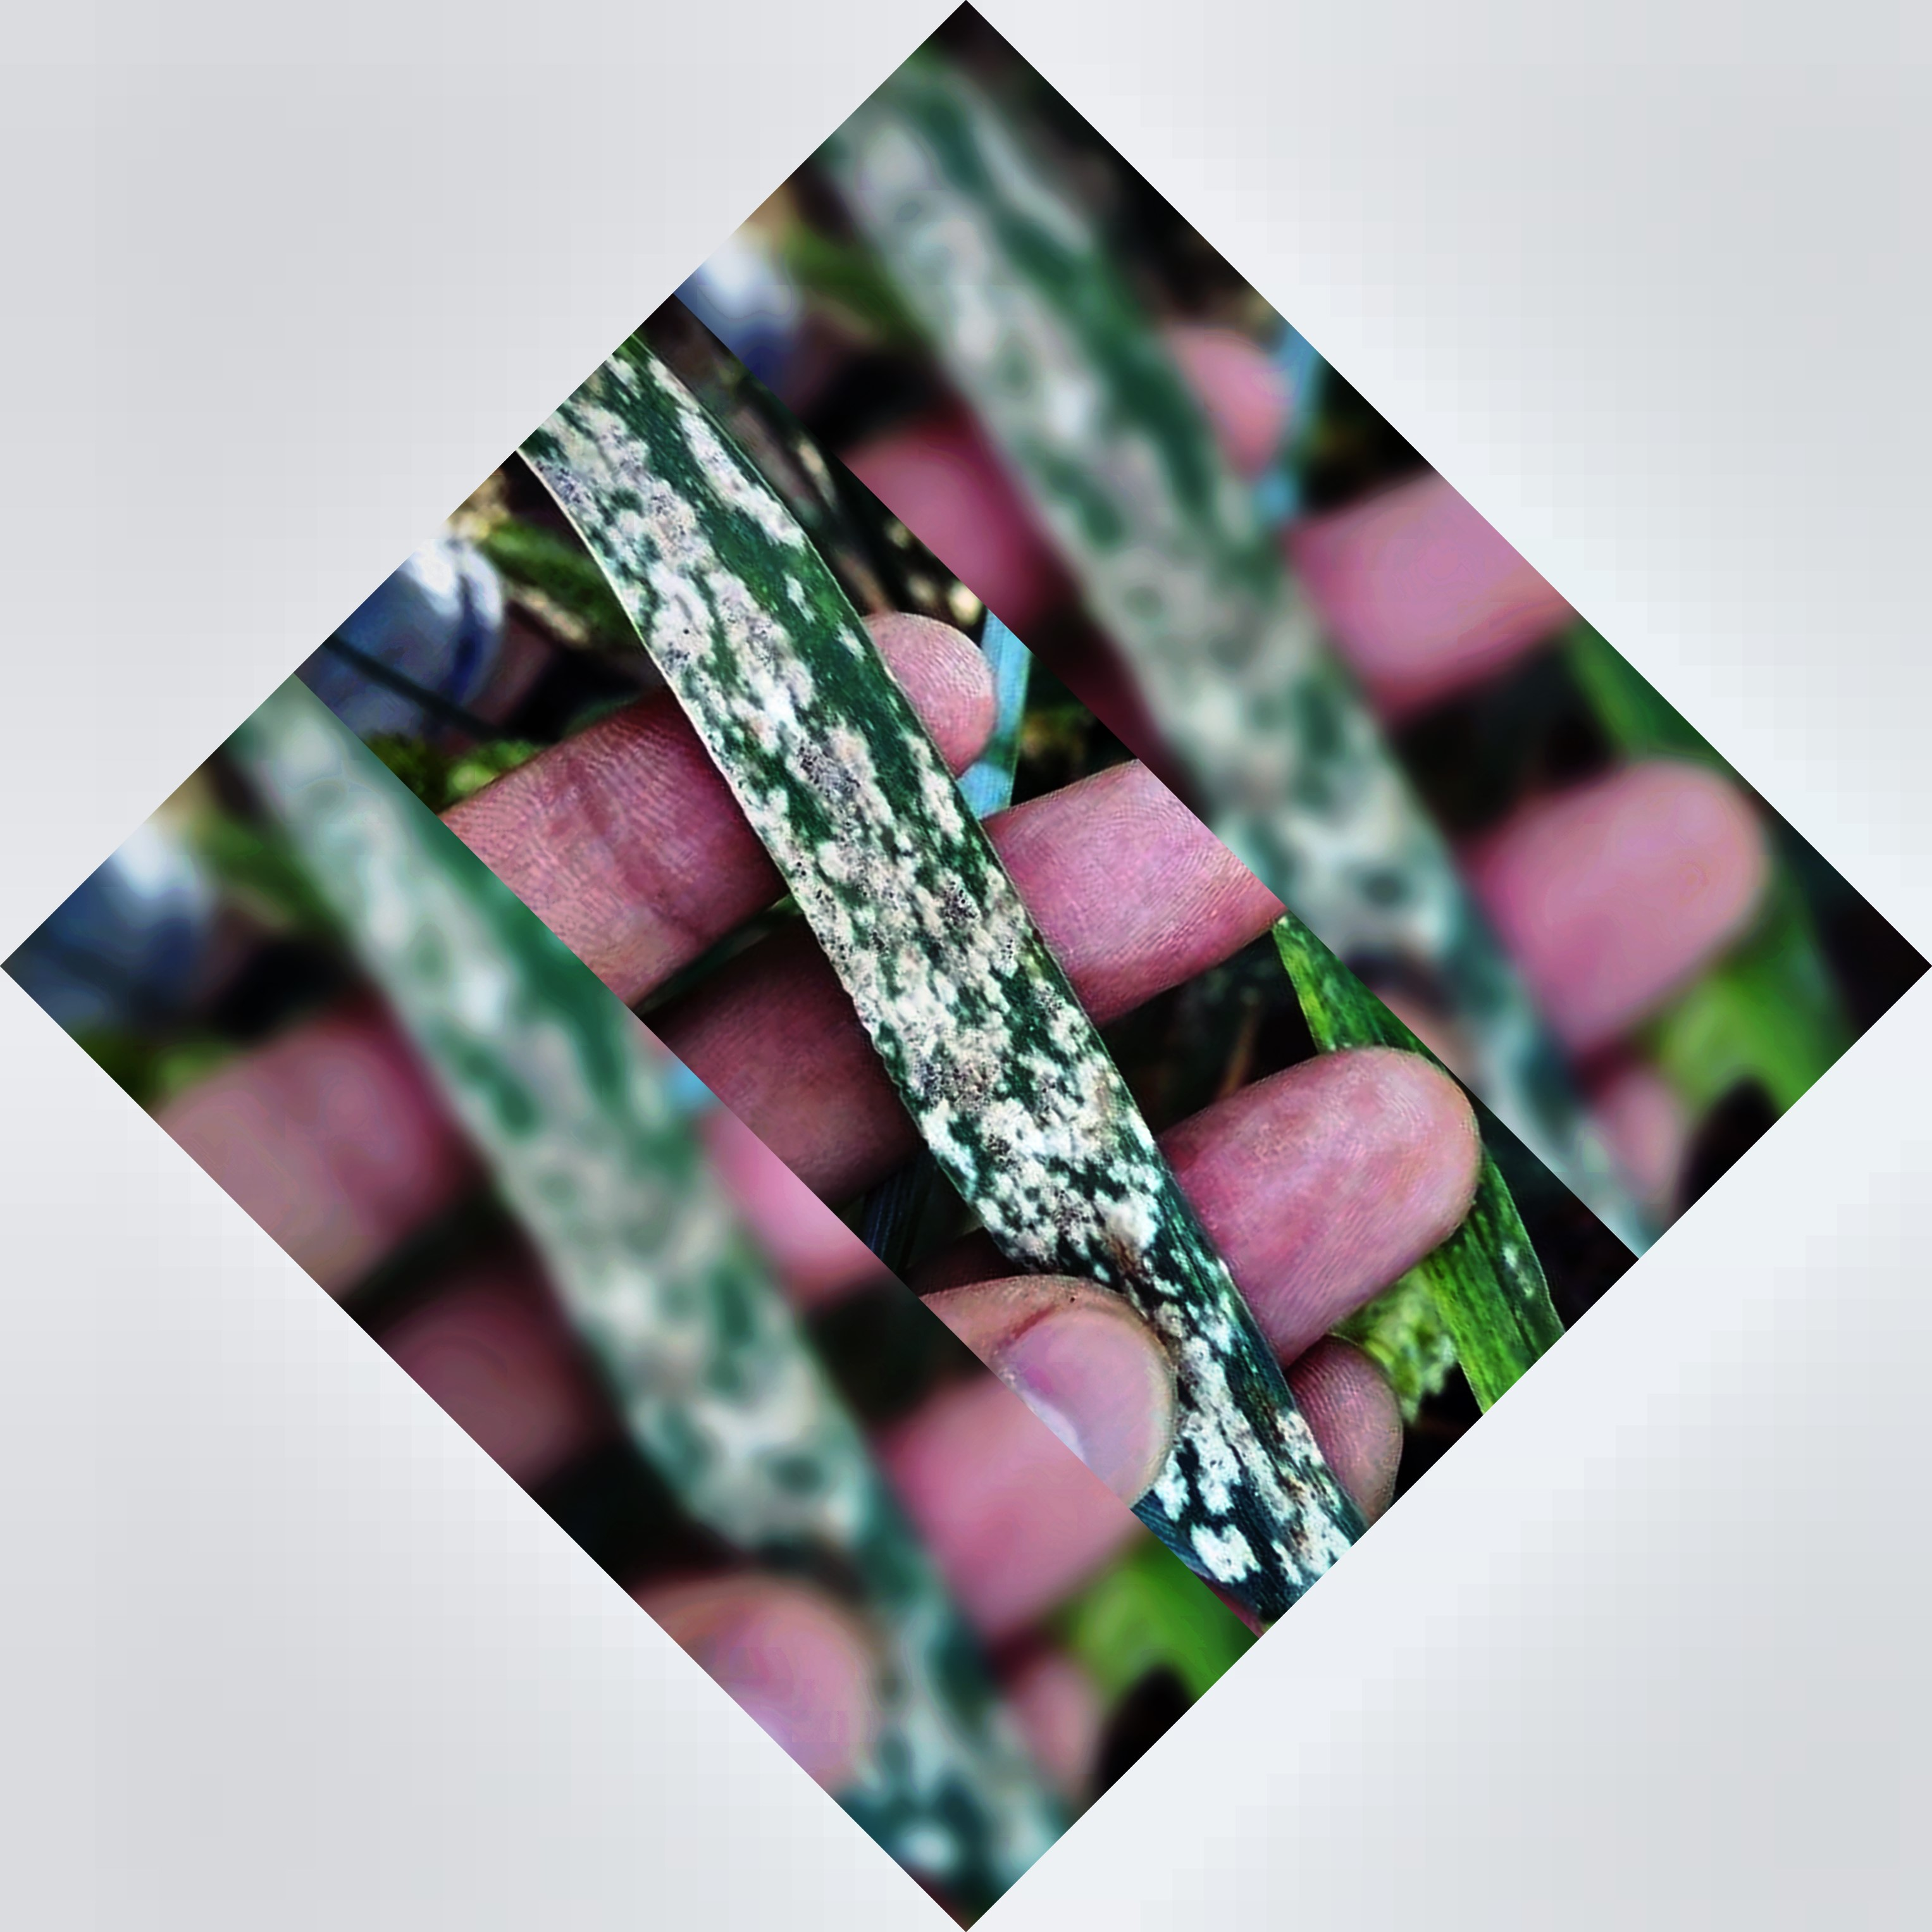Powdery Mildew: (586, 442, 1261, 1396)
